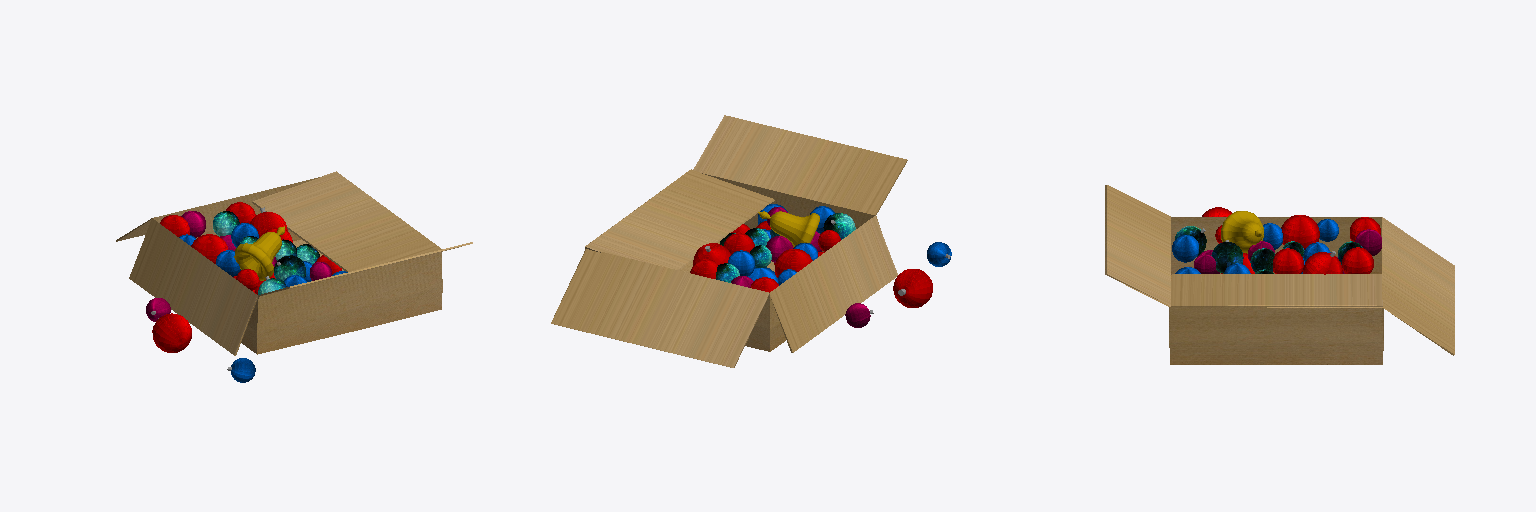
The picture shows the model from 3 angles: view 1: azimuth 30°, elevation 25°; view 2: azimuth 150°, elevation 25°; view 3: azimuth 270°, elevation 25°; orthographic projection.
Parts seen in each view (by area): view 1: box, kusok_korobki, bell, Sphere29, Sphere16, Sphere02; view 2: box, kusok_korobki, bell, Sphere29, Sphere16, Sphere01, Sphere17; view 3: box, kusok_korobki, bell, Sphere16, Sphere03, Sphere17, Sphere24, Sphere02, Sphere14.
Part boxes in pixels (left/top/right/bottom): box: left=116, top=176, right=472, bottom=355; kusok_korobki: left=252, top=171, right=441, bottom=271; bell: left=234, top=226, right=284, bottom=280; Sphere29: left=152, top=313, right=191, bottom=352; Sphere16: left=191, top=234, right=227, bottom=263; Sphere02: left=274, top=255, right=305, bottom=280; box: left=551, top=115, right=907, bottom=367; kusok_korobki: left=585, top=169, right=774, bottom=270; bell: left=758, top=211, right=819, bottom=246; Sphere29: left=893, top=269, right=932, bottom=307; Sphere16: left=775, top=249, right=812, bottom=277; Sphere01: left=823, top=213, right=855, bottom=239; Sphere17: left=693, top=243, right=730, bottom=264; box: left=1105, top=185, right=1454, bottom=364; kusok_korobki: left=1171, top=274, right=1382, bottom=306; bell: left=1221, top=211, right=1263, bottom=253; Sphere16: left=1281, top=215, right=1319, bottom=249; Sphere03: left=1342, top=247, right=1373, bottom=273; Sphere17: left=1303, top=252, right=1342, bottom=274; Sphere24: left=1273, top=248, right=1303, bottom=273; Sphere02: left=1211, top=242, right=1243, bottom=273; Sphere14: left=1172, top=235, right=1198, bottom=262.
Size of the model in its own units: 102 by 33.68 by 117.
7 materials, 6 textured.